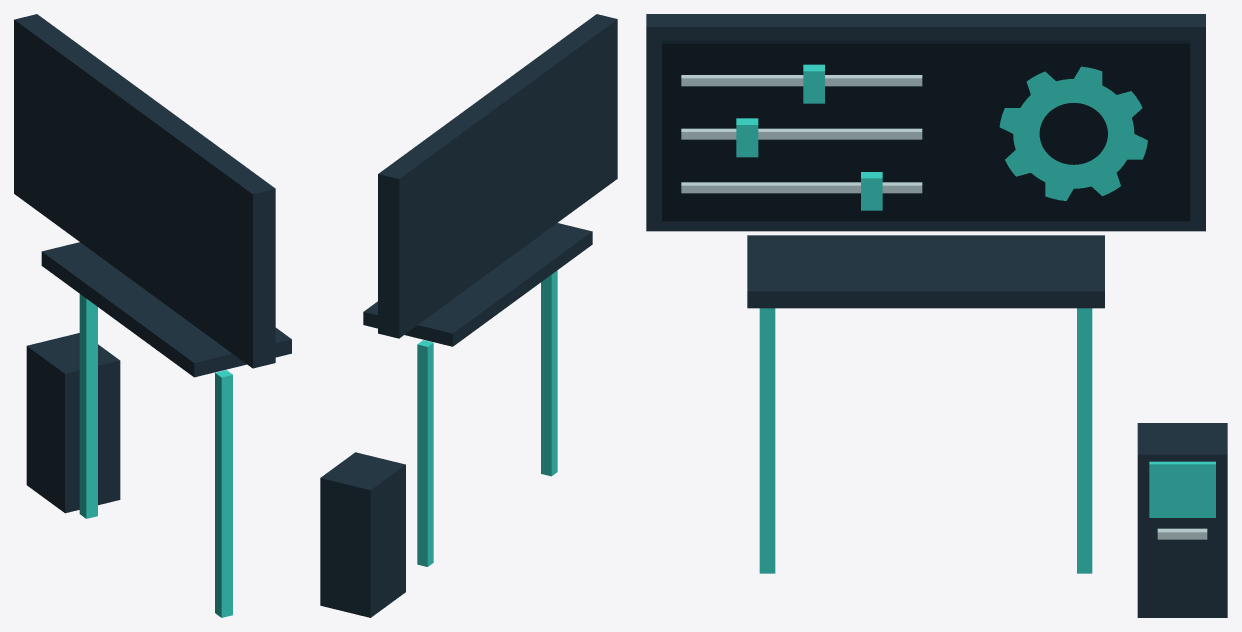
Rendered from ControlFacade.obj.
3 views of the same model, side by side, from view 1: azimuth 30°, elevation 25°; view 2: azimuth 150°, elevation 25°; view 3: azimuth 270°, elevation 25° (orthographic). The views are drawn at different scales.
Bounding box in the file's own units: 0.865 × 3.97 × 3.74.
